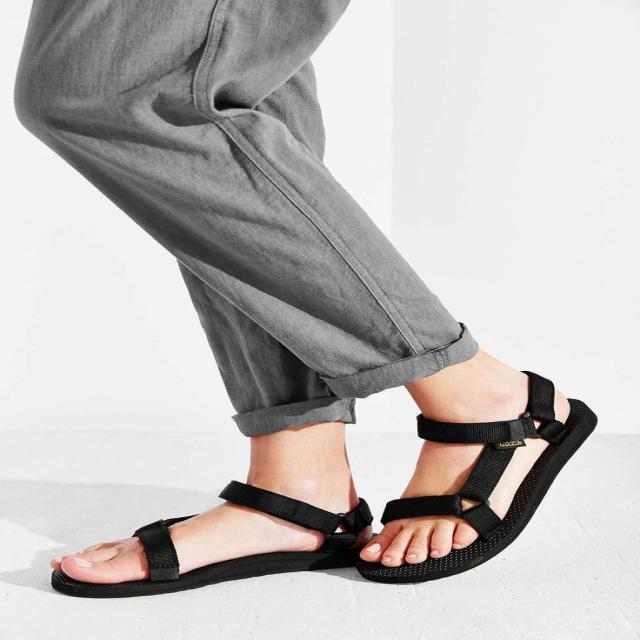Sandals: (15, 328, 629, 634)
